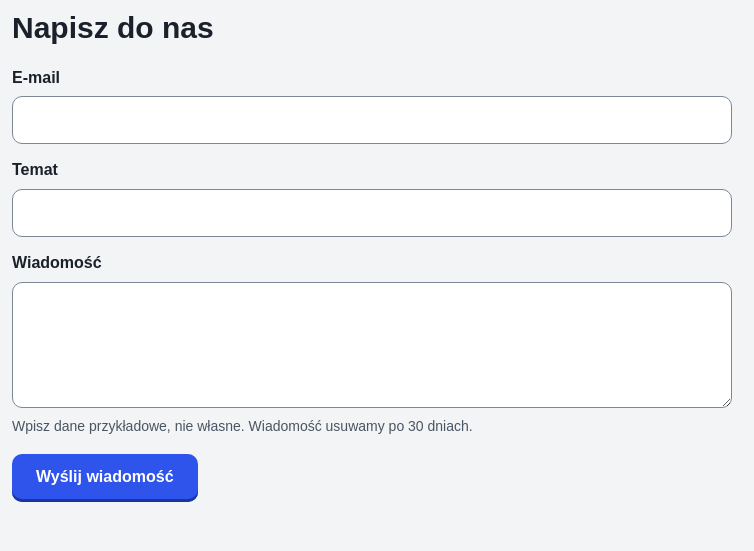
ContactForm (F-221) › walidacja po opuszczeniu pola: komunikat pod polem z aria-describedby
The image size is (754, 551).
Click the field labelled "E-mail" at (372, 120), box [12, 96, 732, 144]
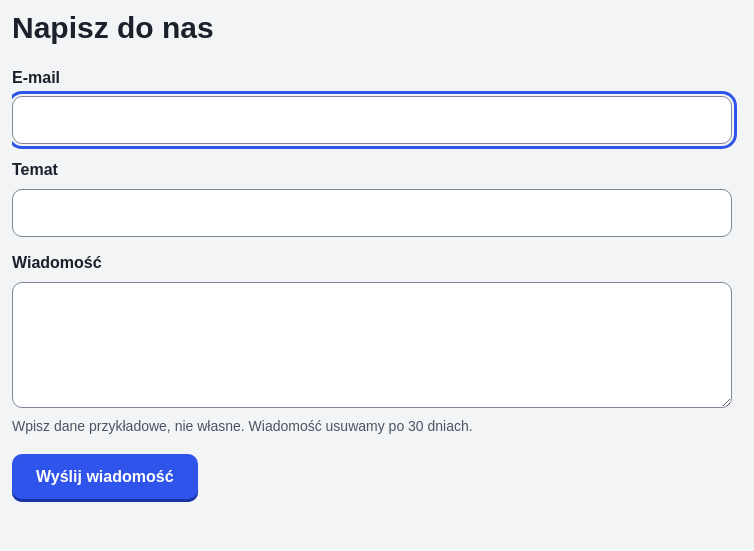
Press Tab
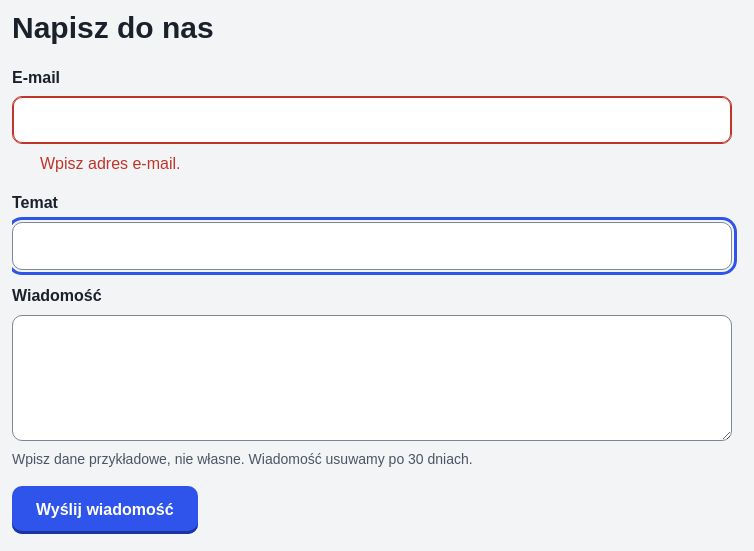
Check: the element showing "Wpisz adres e-mail." is shown, box [40, 155, 180, 172]
